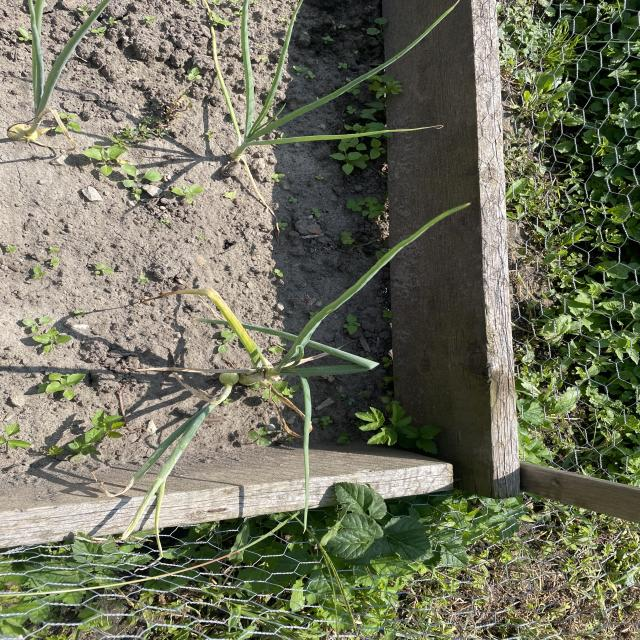Onion: (154, 311, 356, 440), (228, 11, 390, 168), (14, 0, 106, 141)
weed: (337, 60, 398, 182), (356, 398, 448, 460), (54, 413, 130, 464), (14, 313, 72, 356), (39, 369, 89, 409), (85, 145, 128, 178), (0, 421, 34, 462), (118, 166, 158, 196), (343, 195, 388, 218), (168, 188, 203, 206)
